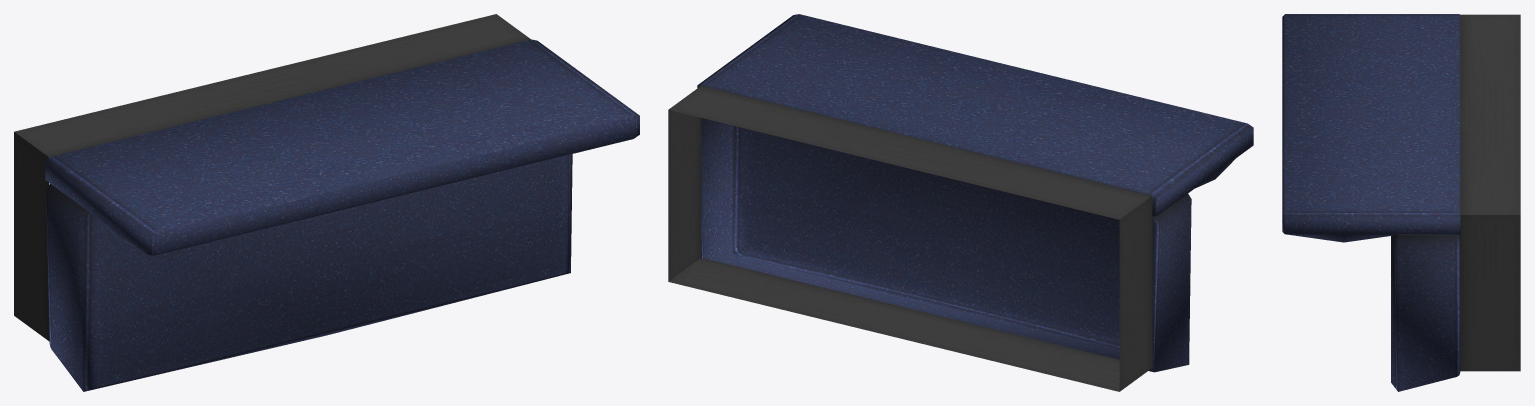
The model's file is nt_bench_retro_LOD2.obj.
3 views of the same model, side by side, from view 1: azimuth 30°, elevation 25°; view 2: azimuth 150°, elevation 25°; view 3: azimuth 270°, elevation 25° (orthographic). The views are drawn at different scales.
Parts seen in each view (by area): view 1: mtl_nt_bench_retro; view 2: mtl_nt_bench_retro; view 3: mtl_nt_bench_retro.
Boxes of the visible parts, bbox=[...] form: mtl_nt_bench_retro: bbox=[14, 14, 639, 391]; mtl_nt_bench_retro: bbox=[668, 14, 1253, 391]; mtl_nt_bench_retro: bbox=[1282, 14, 1520, 391].
Size of the model in its own units: 183 by 74.95 by 90.03.
